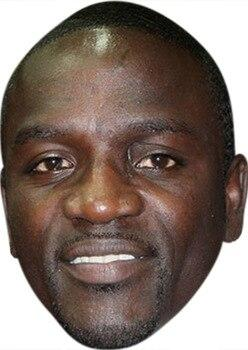No Mask: (6, 29, 237, 348)
